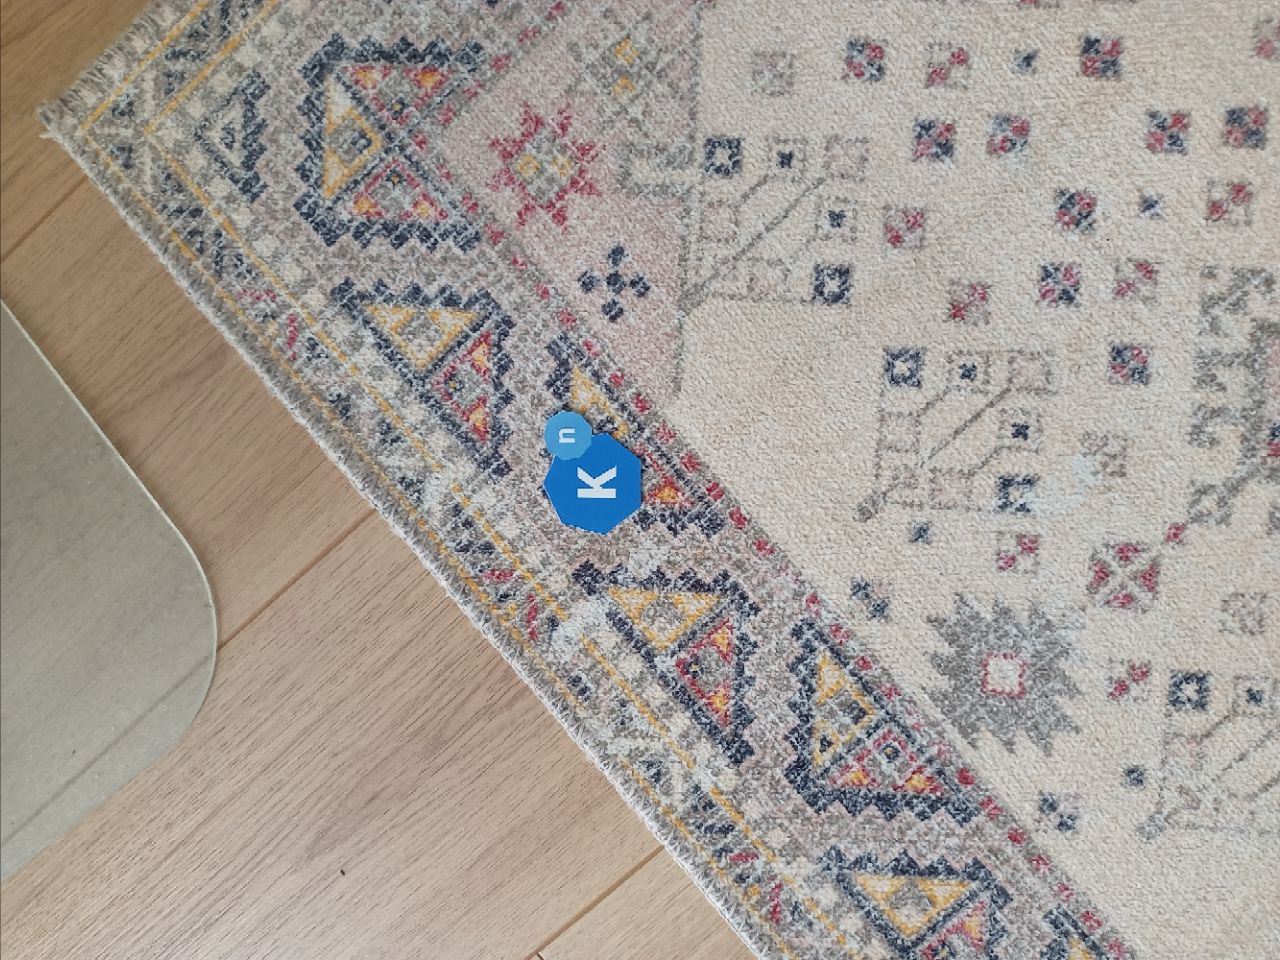knative: (543, 408, 644, 538)
